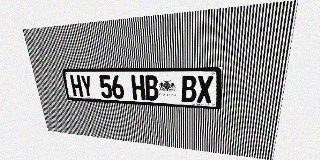5: (99, 75, 113, 98)
6: (110, 75, 125, 99)
B: (181, 75, 196, 103), (144, 75, 159, 101)
H: (131, 75, 145, 100), (70, 75, 83, 97)
X: (197, 76, 213, 103)
Y: (80, 75, 94, 97)
